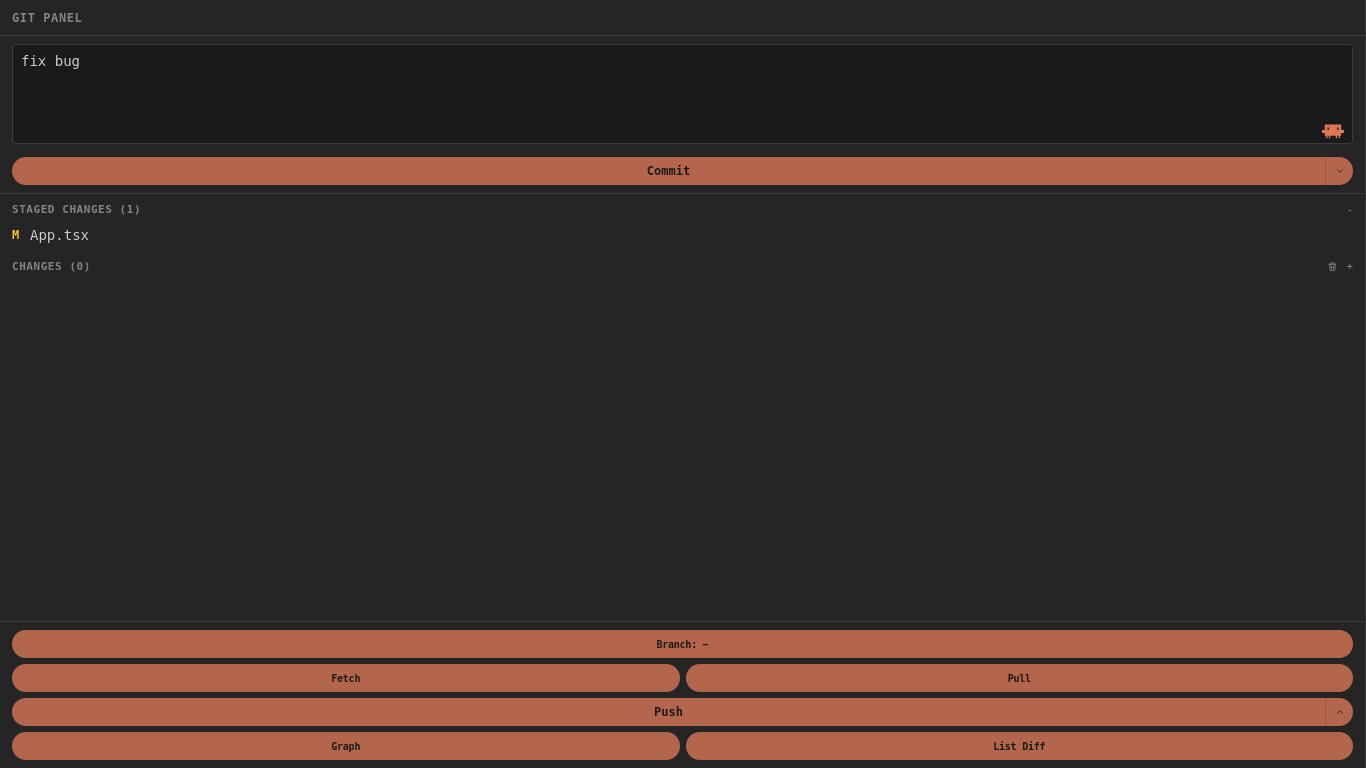
Test: GitPanel — commit options (--no-verify) › clicking outside the panel closes it without committing
Click the button named "Commit options" at (1339,171), box [1325,157,1353,185]
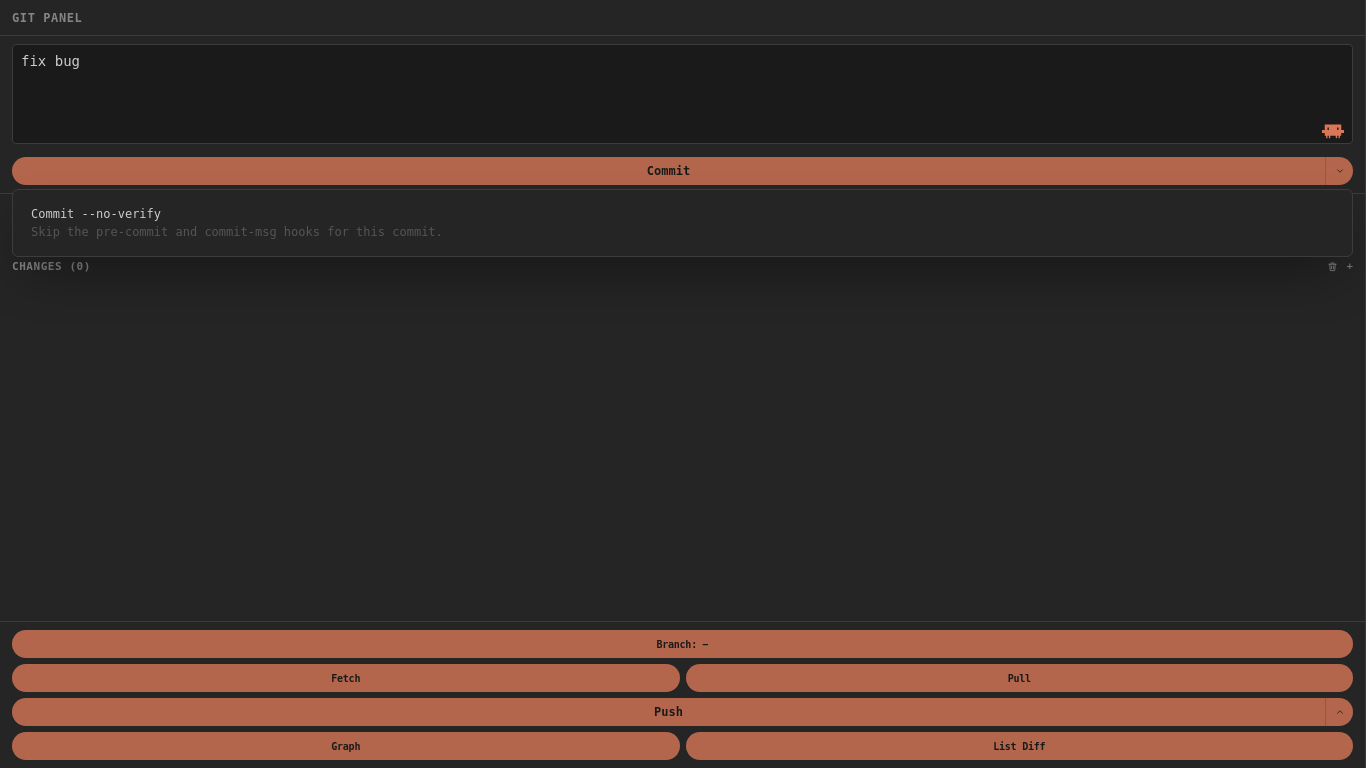
Check: the text "Commit --no-verify" is shown, box [31,206,161,222]
Press the mouse on the element that starts with "Git Panel" at (683,384), box [0,0,1365,767]
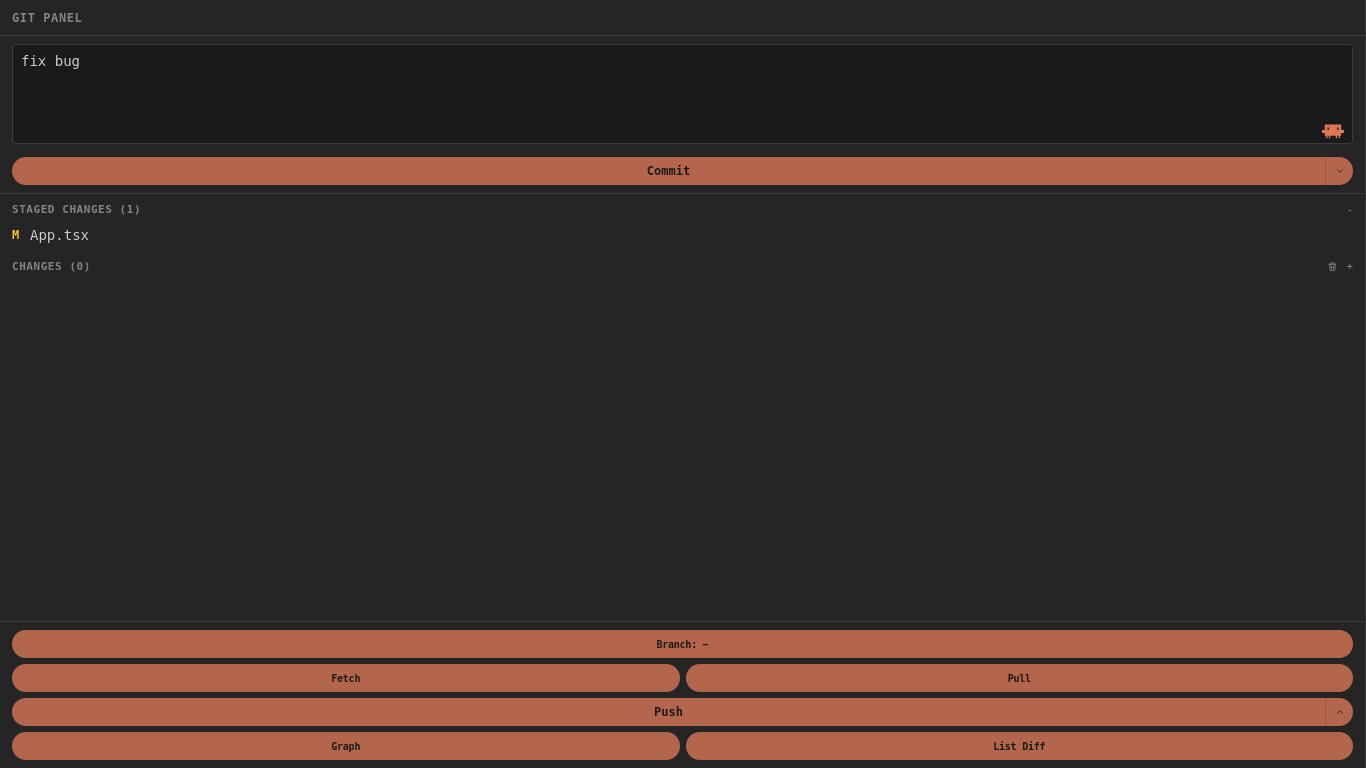
Check: the button "Commit --no-verify" is gone
